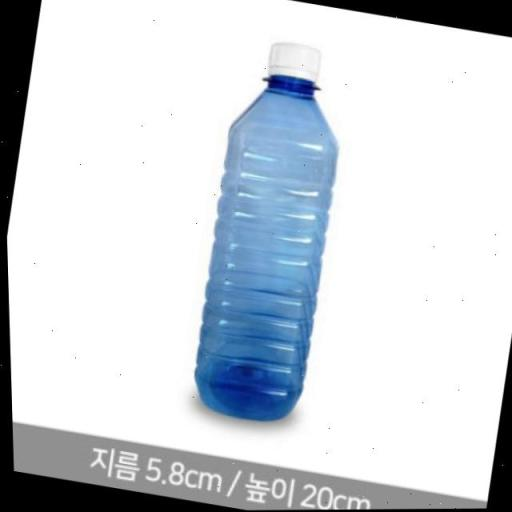plastic: (176, 34, 362, 427)
